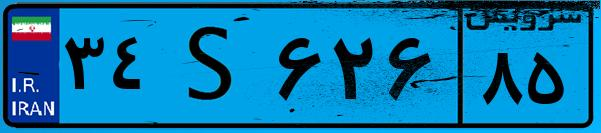2: (330, 28, 385, 110)
3: (57, 26, 110, 100)
4: (110, 28, 158, 98)
5: (525, 38, 570, 115)
6: (270, 28, 330, 110), (385, 28, 445, 110)
8: (475, 38, 525, 113)
S: (158, 12, 270, 120)
